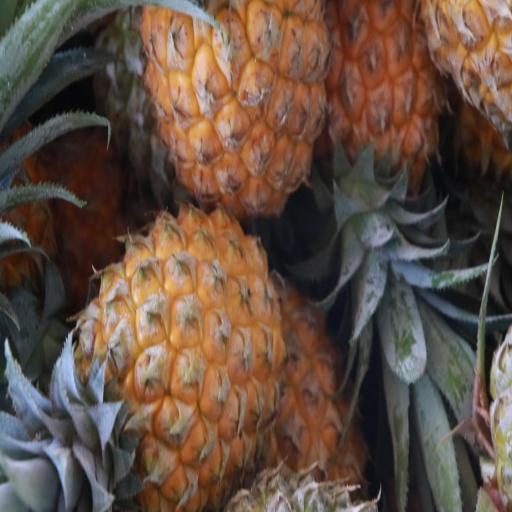Pineapple - v8 v1: (72, 211, 286, 511), (147, 0, 324, 218), (324, 0, 453, 225)
